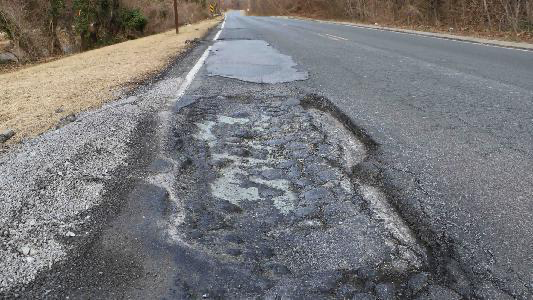pothole: (164, 90, 452, 294)
